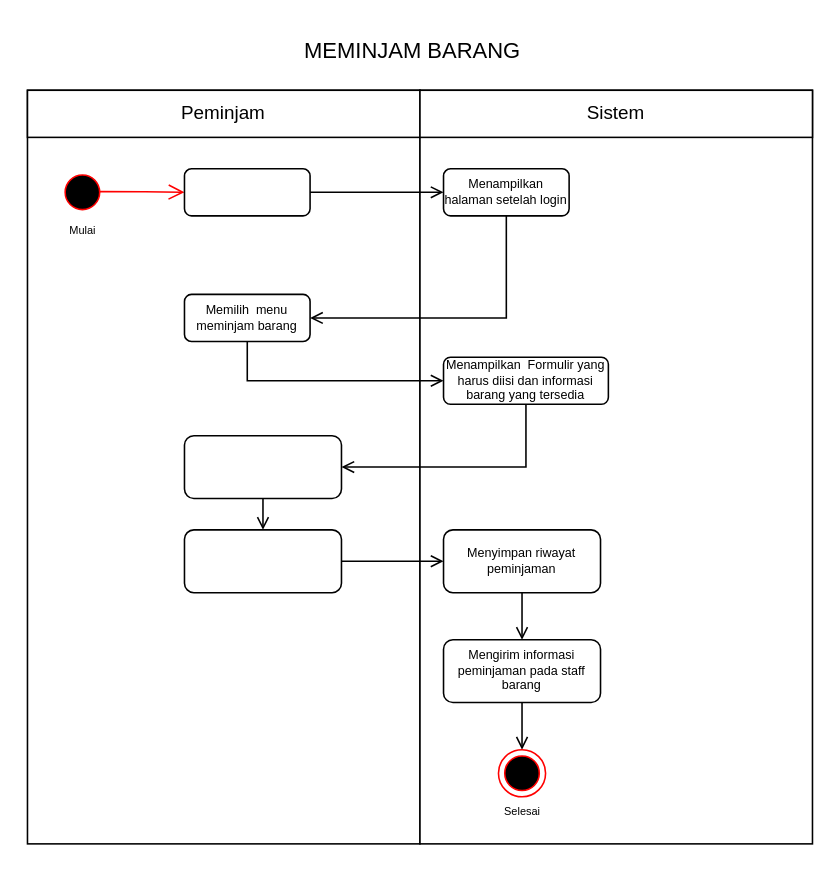
The diagram is 840 pixels wide and 871 high, and some of its shapes have lost their labels. The centre of each missing label's shape, as x and y in pixels:
Menekan tombol kirim: point (262, 560)
Mengisi formulir peminjaman dan barang yang akan dipinjam: point (262, 466)
Peminjam sudah login: point (246, 191)
